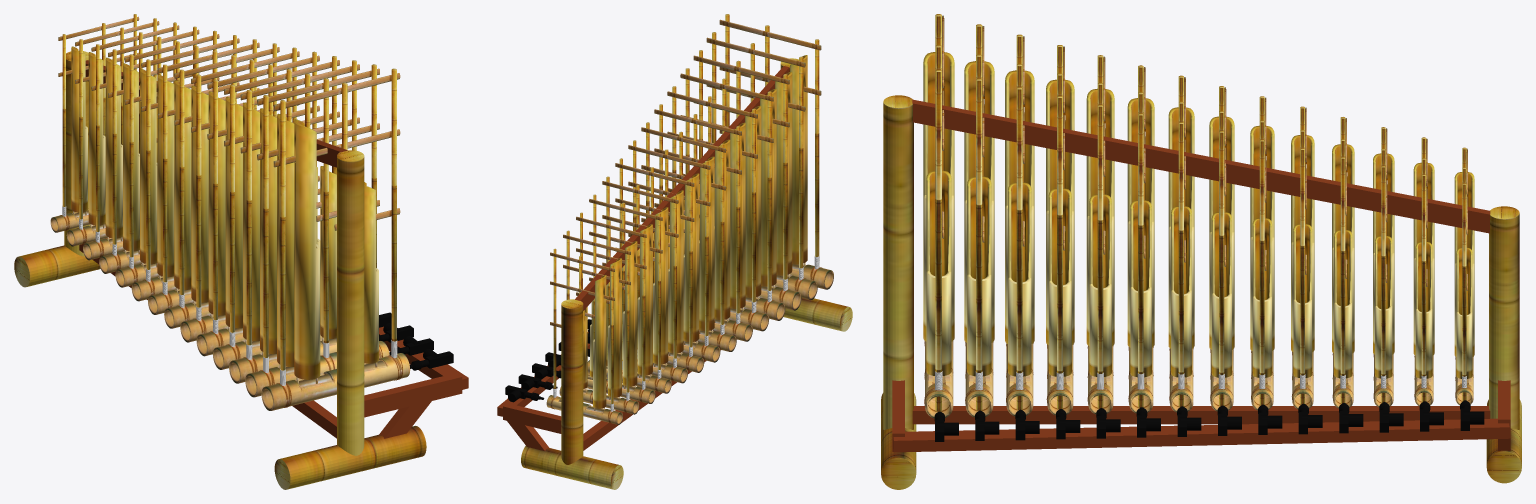
Rendered from angklung.glb.
3 views of the same model, side by side, from view 1: azimuth 30°, elevation 25°; view 2: azimuth 150°, elevation 25°; view 3: azimuth 270°, elevation 25° (orthographic). The views are drawn at different scales.
Parts seen in each view (by area): view 1: G-Object.009, G-Object.018, G-Object.001, Cylinder.001, G-Object.002, G-Object.004, G-Object.003, G-Object.005, G-Object.006, G-Object.007, G-Object.008, G-Object.010 (+11 smaller); view 2: G-Object.018, G-Object.009, G-Object.001, G-Object.002, G-Object.004, G-Object.003, G-Object.005, G-Object.006, G-Object.007, G-Object.011, G-Object.008, G-Object.010 (+8 smaller); view 3: Cube.003, Cube.001, G-Object.009, G-Object.018, G-Object.001, Cylinder.001, G-Object.002, G-Object.003, G-Object.004, G-Object.005, G-Object.006, G-Object.007 (+9 smaller).
Part boxes in pixels (left/top/right/bottom): G-Object.009: left=261, top=68, right=410, bottom=410; G-Object.018: left=245, top=64, right=389, bottom=397; G-Object.001: left=229, top=60, right=359, bottom=383; Cylinder.001: left=337, top=150, right=364, bottom=455; G-Object.002: left=212, top=56, right=339, bottom=369; G-Object.004: left=180, top=47, right=299, bottom=342; G-Object.003: left=196, top=51, right=319, bottom=356; G-Object.005: left=164, top=43, right=279, bottom=328; G-Object.006: left=148, top=39, right=259, bottom=314; G-Object.007: left=131, top=35, right=239, bottom=301; G-Object.008: left=115, top=30, right=219, bottom=287; G-Object.010: left=99, top=26, right=199, bottom=273; G-Object.018: left=706, top=32, right=817, bottom=299; G-Object.009: left=719, top=14, right=833, bottom=289; G-Object.001: left=693, top=50, right=801, bottom=310; G-Object.002: left=680, top=68, right=785, bottom=320; G-Object.004: left=654, top=104, right=752, bottom=341; G-Object.003: left=667, top=86, right=769, bottom=331; G-Object.005: left=641, top=122, right=736, bottom=351; G-Object.006: left=628, top=140, right=720, bottom=362; G-Object.007: left=615, top=158, right=704, bottom=372; G-Object.011: left=576, top=212, right=655, bottom=403; G-Object.008: left=602, top=176, right=687, bottom=383; G-Object.010: left=587, top=194, right=671, bottom=393; Cube.003: left=892, top=380, right=1510, bottom=452; Cube.001: left=912, top=99, right=1490, bottom=233; G-Object.009: left=923, top=14, right=954, bottom=418; G-Object.018: left=964, top=24, right=994, bottom=417; G-Object.001: left=1005, top=34, right=1034, bottom=416; Cylinder.001: left=883, top=95, right=913, bottom=429; G-Object.002: left=1046, top=45, right=1074, bottom=415; G-Object.003: left=1086, top=55, right=1114, bottom=414; G-Object.004: left=1127, top=65, right=1154, bottom=413; G-Object.005: left=1168, top=75, right=1194, bottom=412; G-Object.006: left=1209, top=86, right=1234, bottom=411; G-Object.007: left=1250, top=96, right=1274, bottom=410.
Size of the model in its own units: 0.5947 by 1.13 by 1.59.
Materials: 58 (28 with a texture image).
